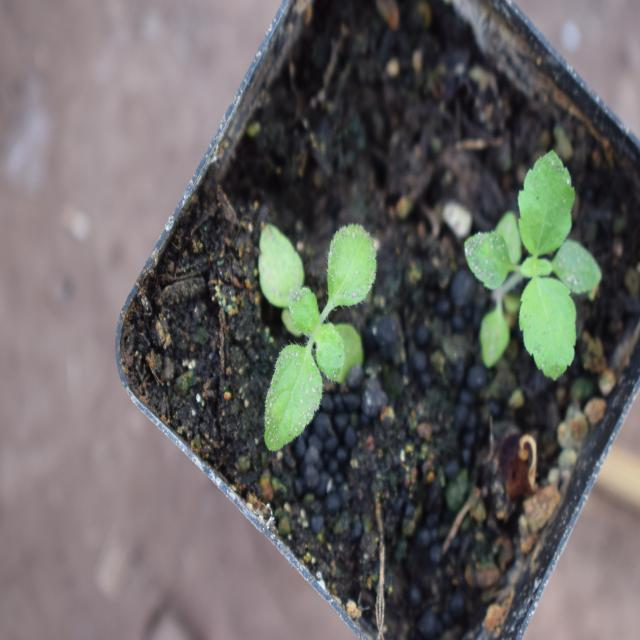billygoat_weed: (462, 160, 599, 399), (275, 178, 369, 458)
